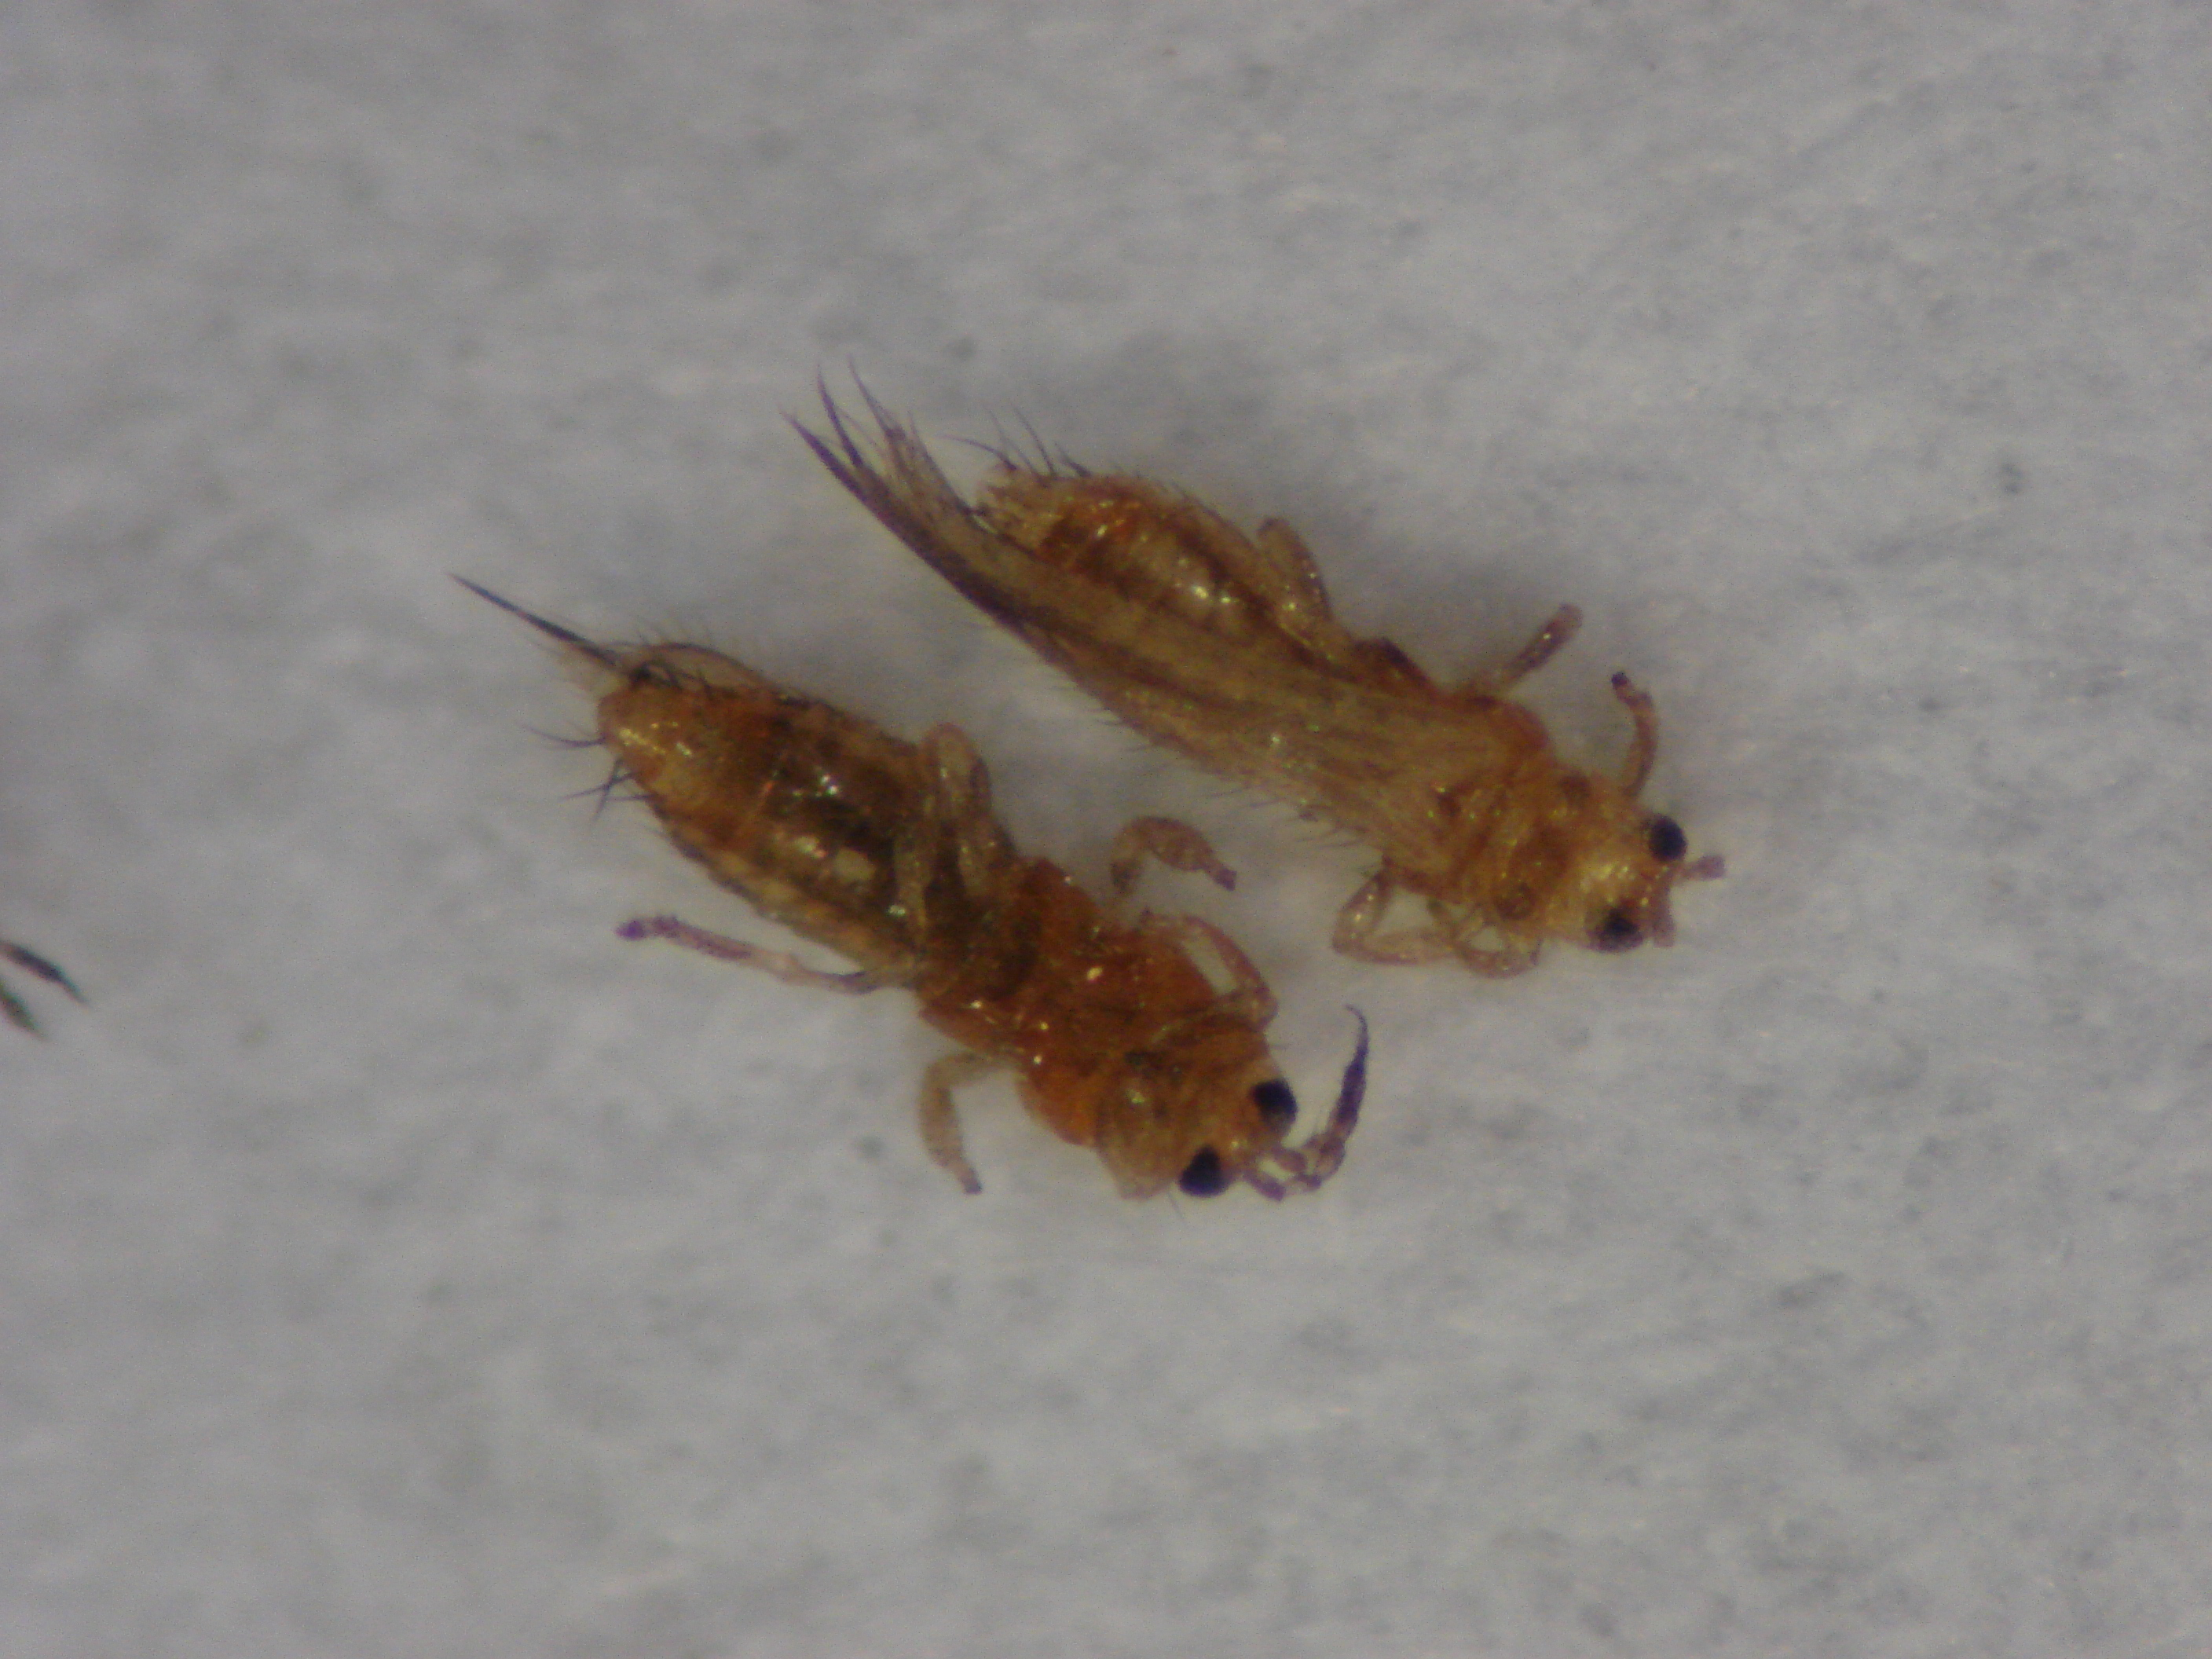Thrips: (452, 591, 1364, 1285), (767, 353, 1709, 976)
